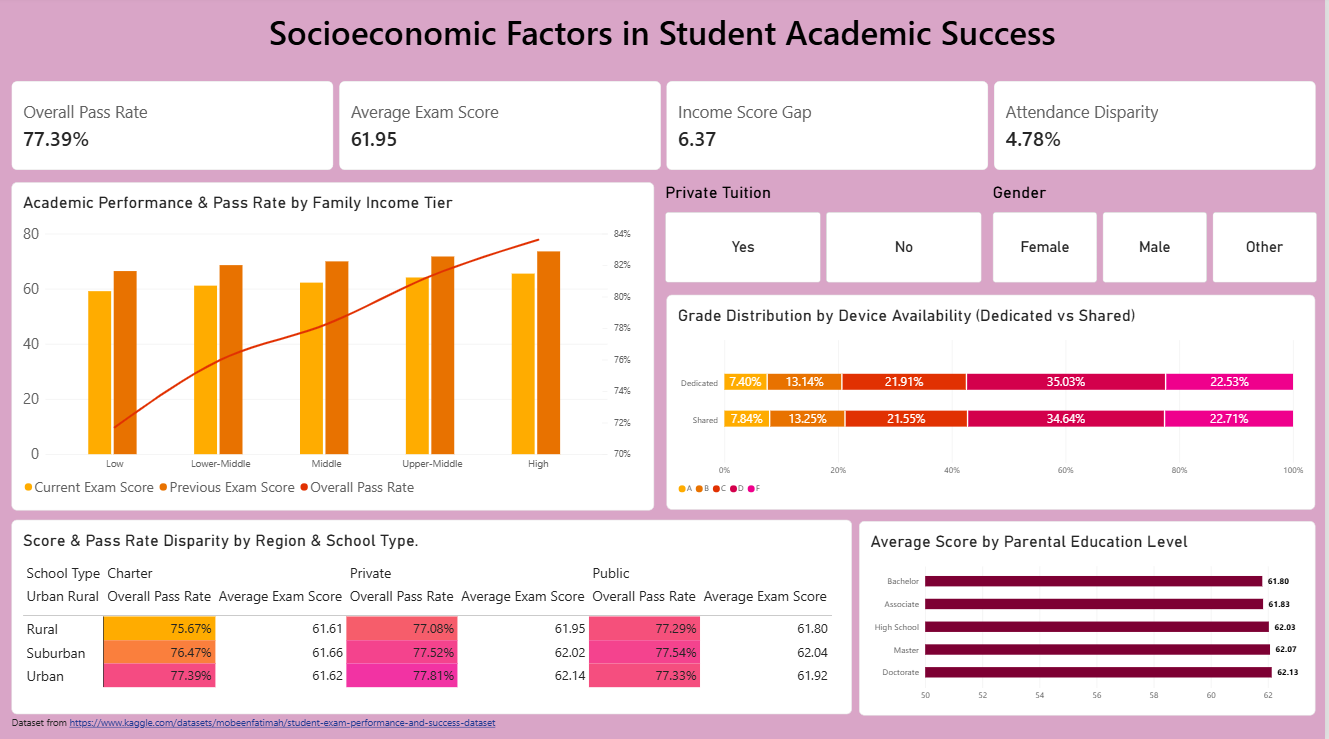

What the dashboard file says about the page in this screenshot:
{"tool":"powerbi","page":{"name":"Page 1","canvas":[1920,1080],"ordinal":0},"visuals":[{"type":"cardVisual","fields":{"Data":["student_exam_performance.Overall Pass Rate","student_exam_performance.Average Exam Score","student_exam_performance.Income Score Gap","student_exam_performance.Attendance Disparity"]},"box":[18.7,122.9,1891.6,129.7],"z":0},{"type":"lineClusteredColumnComboChart","title":"Academic Performance & Pass Rate by Family Income Tier","fields":{"Category":["student_exam_performance.family_income"],"Y":["Avg(student_exam_performance.exam_score)","Avg(student_exam_performance.previous_exam_score)"],"Y2":["student_exam_performance.Overall Pass Rate"]},"box":[18.7,269,930.4,475.5],"z":1000},{"type":"pivotTable","title":"Score & Pass Rate Disparity by Region & School Type.","fields":{"Columns":["student_exam_performance.school_type"],"Rows":["student_exam_performance.urban_rural"],"Values":["student_exam_performance.Overall Pass Rate","student_exam_performance.Average Exam Score"]},"box":[18.7,758.9,1216.5,282],"z":2000},{"type":"hundredPercentStackedBarChart","title":"Grade Distribution by Device Availability (Dedicated vs Shared)","fields":{"Category":["student_exam_performance.device_availability"],"Series":["student_exam_performance.performance_grade"],"Y":["CountNonNull(student_exam_performance.student_id)"]},"box":[966.4,432.5,939.2,311.3],"z":3000},{"type":"clusteredBarChart","title":"Average Score by Parental Education Level","fields":{"Category":["student_exam_performance.parent_education"],"Y":["student_exam_performance.Average Exam Score"]},"box":[1245.3,759.5,660.7,282],"z":4000},{"type":"advancedSlicerVisual","fields":{"Values":["student_exam_performance.gender"]},"box":[1438.8,269.6,471.4,146.1],"z":5000},{"type":"advancedSlicerVisual","fields":{"Values":["student_exam_performance.Tuition_Label"]},"box":[965.4,269.6,459,146.1],"z":6000},{"type":"textbox","box":[0,0,1920.4,107],"z":7000},{"type":"textbox","box":[18.1,1042.4,705.8,25.3],"z":7001}]}

Visuals, with their boxes in screenshot pixels (x1, y1, x2, y2), scaled from the page's 1920x1080 canvas onto the 1329x739 screenshot:
cardVisual - student_exam_performance.Overall Pass Rate x student_exam_performance.Average Exam Score: 13,84,1322,173
"Academic Performance & Pass Rate by Family Income Tier" lineClusteredColumnComboChart: 13,184,657,509
"Score & Pass Rate Disparity by Region & School Type." pivotTable: 13,519,855,712
"Grade Distribution by Device Availability (Dedicated vs Shared)" hundredPercentStackedBarChart: 669,296,1319,509
"Average Score by Parental Education Level" clusteredBarChart: 862,520,1319,713
advancedSlicerVisual - student_exam_performance.gender: 996,184,1322,284
advancedSlicerVisual - student_exam_performance.Tuition_Label: 668,184,986,284
textbox: 0,0,1328,73
textbox: 13,713,501,731
